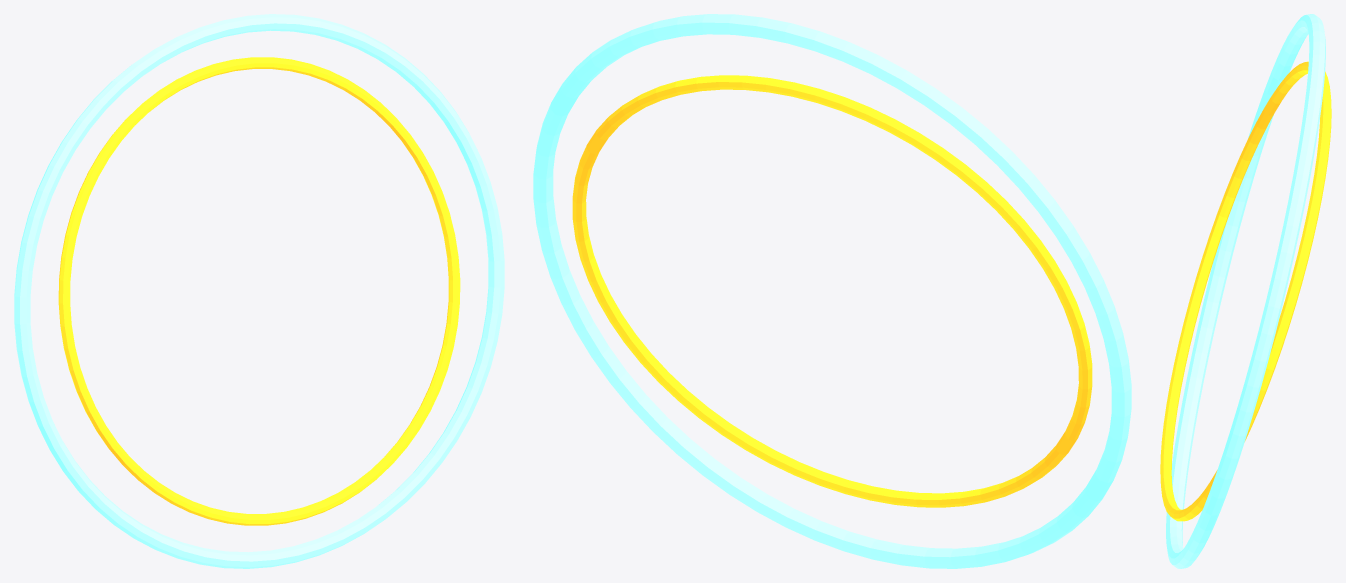
Rendered from menu_swirl.glb.
3 views of the same model, side by side, from view 1: azimuth 30°, elevation 25°; view 2: azimuth 150°, elevation 25°; view 3: azimuth 270°, elevation 25° (orthographic). The views are drawn at different scales.
Visible parts, largest first — view 1: menu_swirl; view 2: menu_swirl; view 3: menu_swirl.
Boxes of the visible parts, x1,y1,x2,y2 form: menu_swirl: [14, 14, 504, 568]; menu_swirl: [533, 14, 1131, 568]; menu_swirl: [1160, 14, 1331, 568].
Bounding box in the file's own units: 3.3 × 3.19 × 0.9892.
